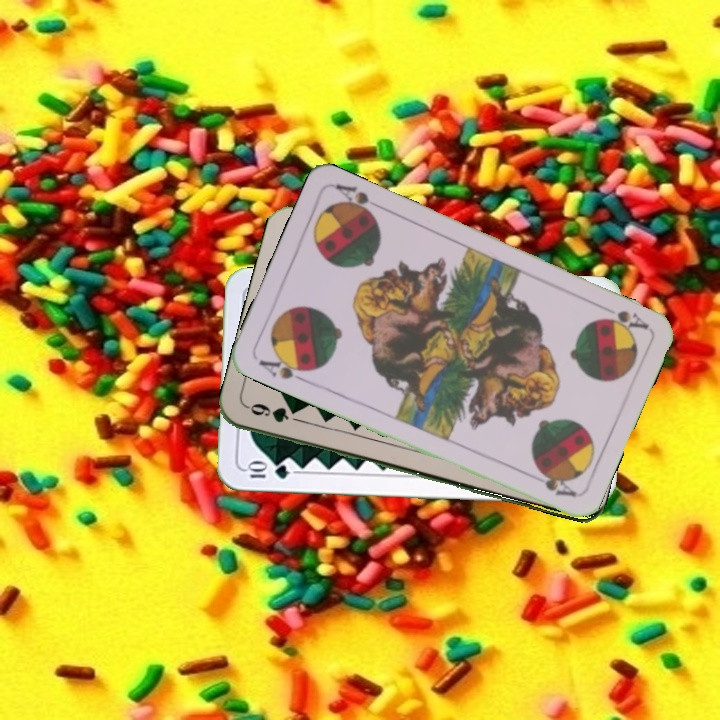G10: (241, 460, 291, 481)
G9: (242, 399, 292, 426)
SA: (254, 350, 314, 385), (594, 300, 651, 333)
